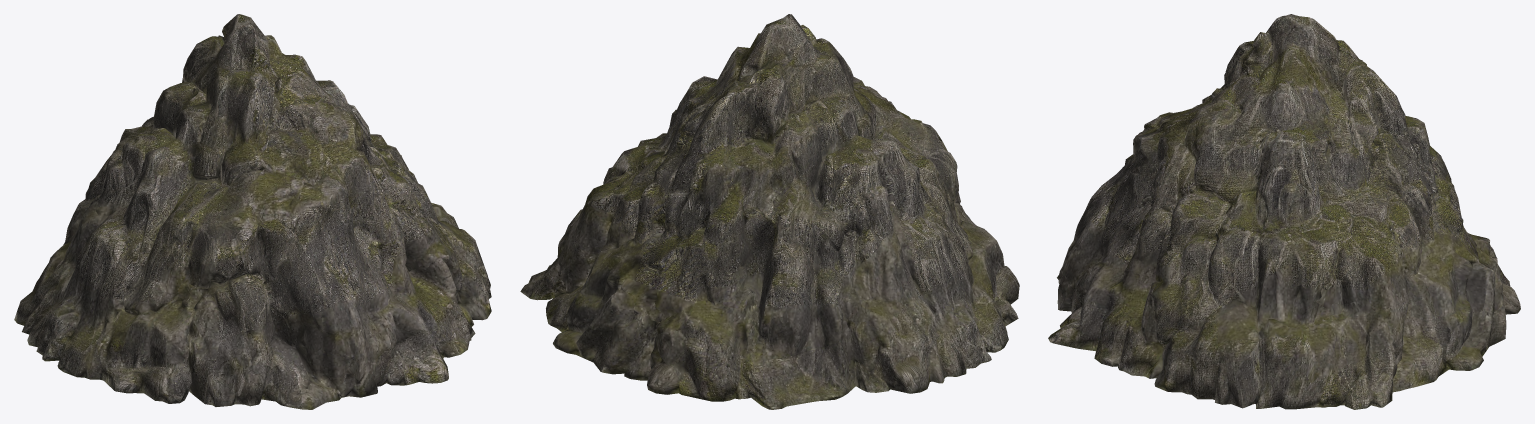
File: mountain.glb
3 views of the same model, side by side, from view 1: azimuth 30°, elevation 25°; view 2: azimuth 150°, elevation 25°; view 3: azimuth 270°, elevation 25° (orthographic).
Size of the model in its own units: 1.89 by 1.24 by 1.84.
Materials: 1 (1 with a texture image).
